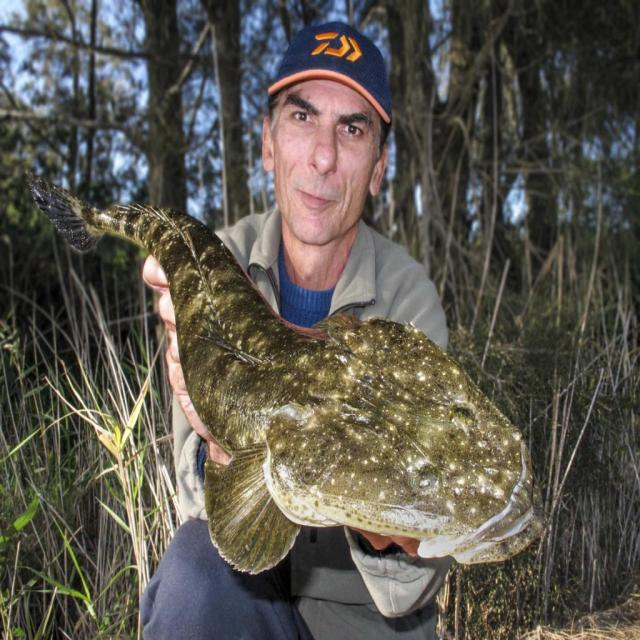Flathead: (23, 160, 548, 590)
